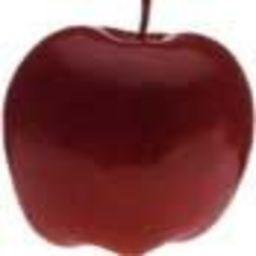apple: (0, 24, 255, 252)
